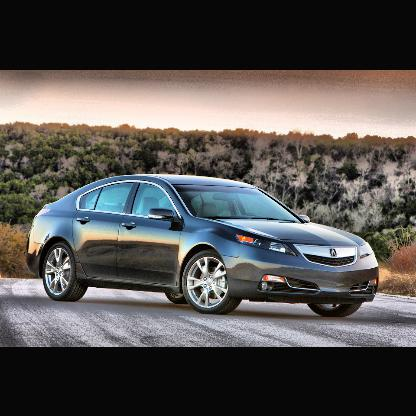Acura TL Sedan 2012: (26, 172, 383, 316)
